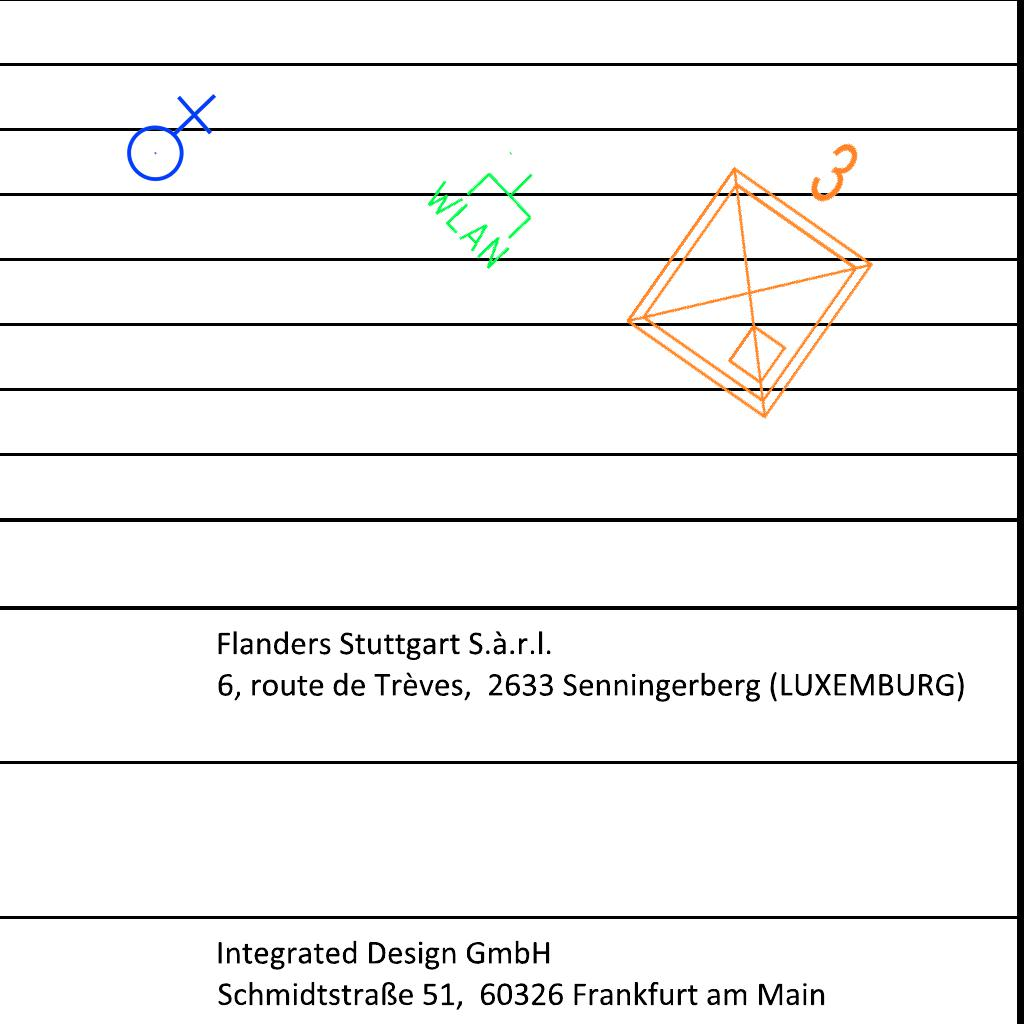Einbaudownlights_LED_Konferenzraeume: (598, 74, 942, 440)
Elektroanschluss_allgemein_230V_Geraeteanschlussdose_230V: (118, 89, 217, 183)
WLAN: (416, 127, 564, 276)
